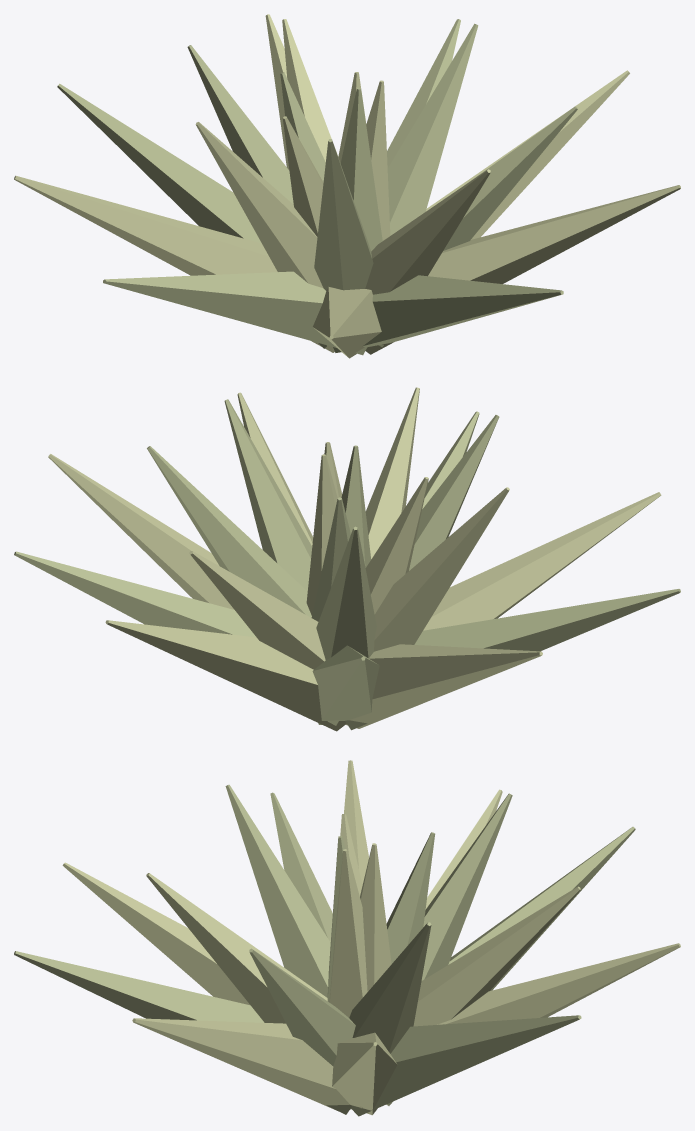
File: Agave.gltf
3 views of the same model, one above another, from view 1: azimuth 30°, elevation 25°; view 2: azimuth 150°, elevation 25°; view 3: azimuth 270°, elevation 25° (orthographic).
Parts seen in each view (by area): view 1: Agave; view 2: Agave; view 3: Agave.
Boxes of the visible parts, left/top/right/bottom form: Agave: left=14, top=14, right=680, bottom=358; Agave: left=14, top=387, right=680, bottom=731; Agave: left=14, top=760, right=680, bottom=1116.
Bounding box in the file's own units: 0.7268 × 0.3388 × 0.7247.
